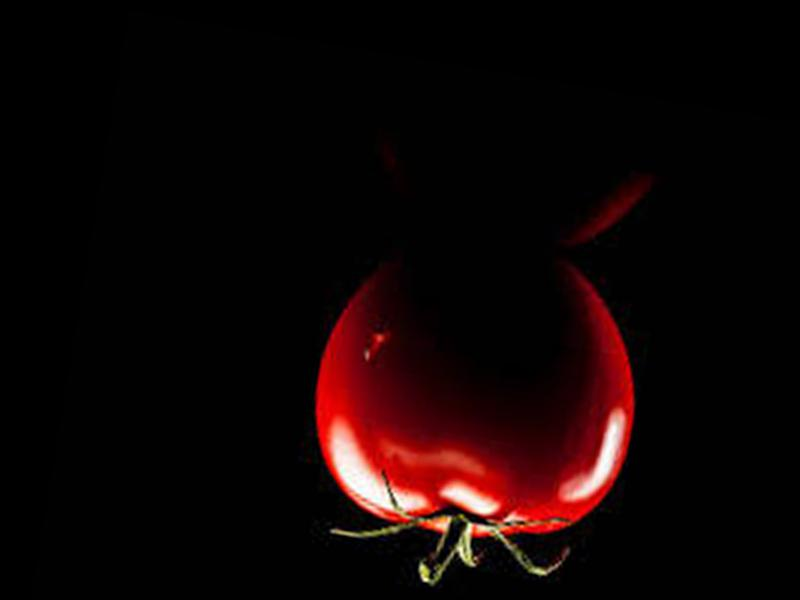Tomato: (294, 231, 654, 568)
